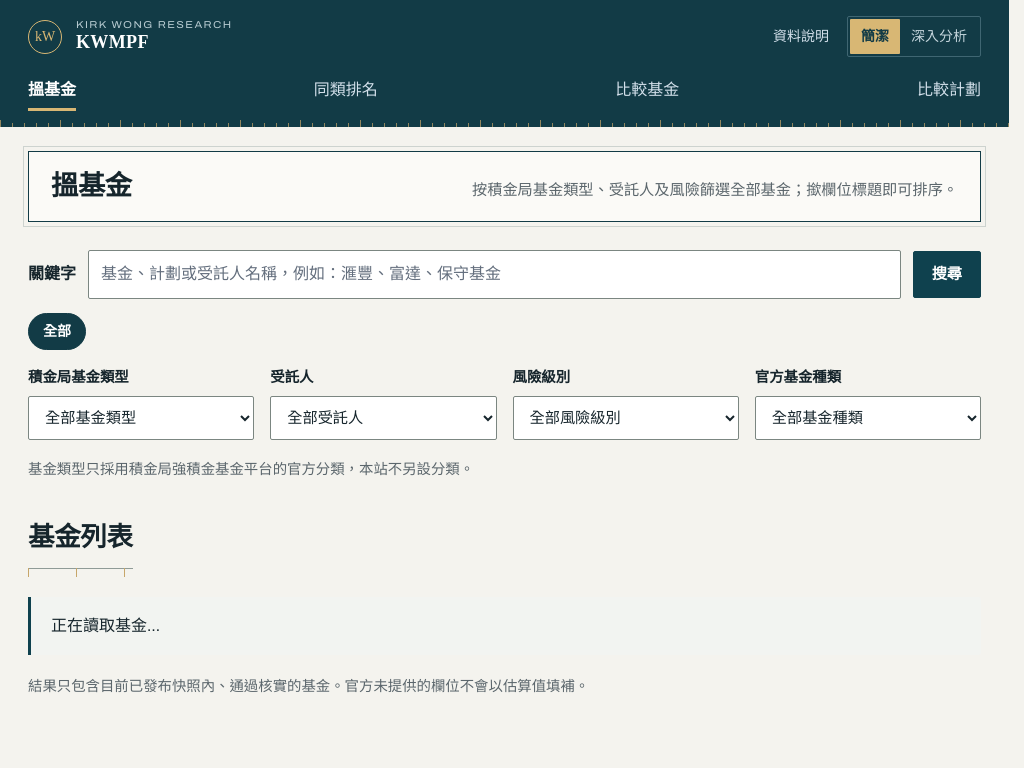
it: fund browse page › reports when no published fund matches the chosen filters
Step 1. Select "3" in the dropdown labelled "風險級別" → (626, 418), box [512, 396, 739, 440]
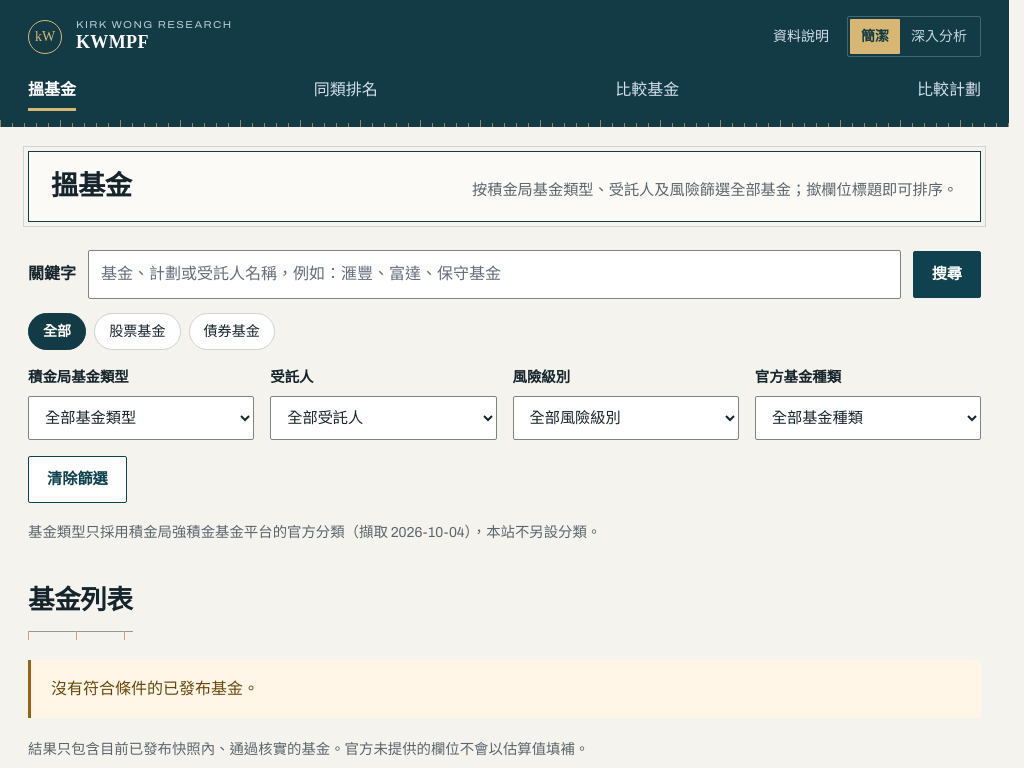
Expected: the text "沒有符合條件的已發布基金。" is shown, [28, 660, 981, 718]
